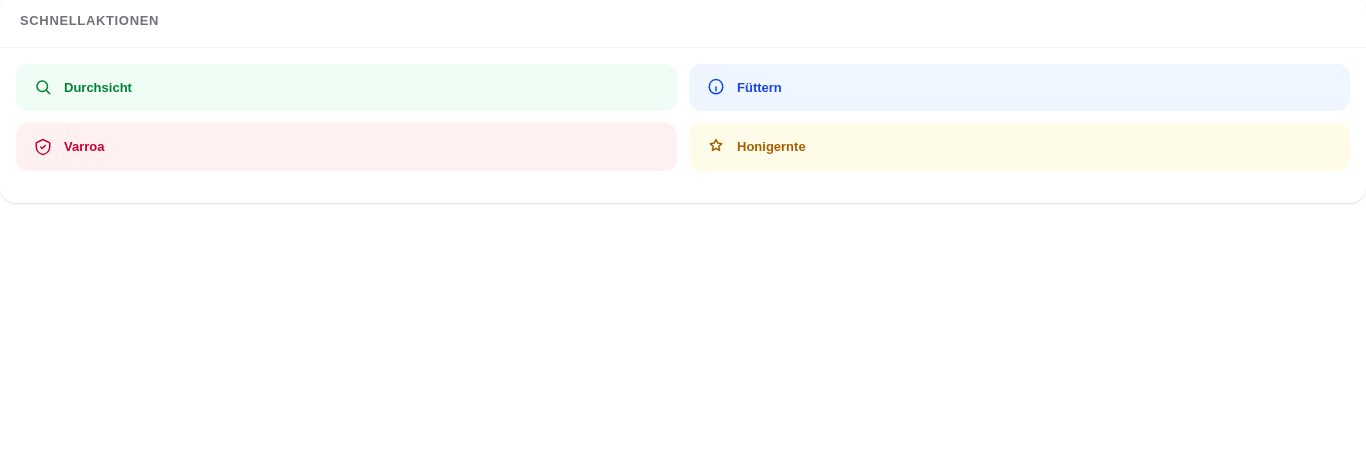
Test: ColonyQuickActions › closes feeding form when Füttern is clicked again
Click the button "Füttern" at {"x": 759, "y": 87}, box x1=689 y1=64 x2=1350 y2=111
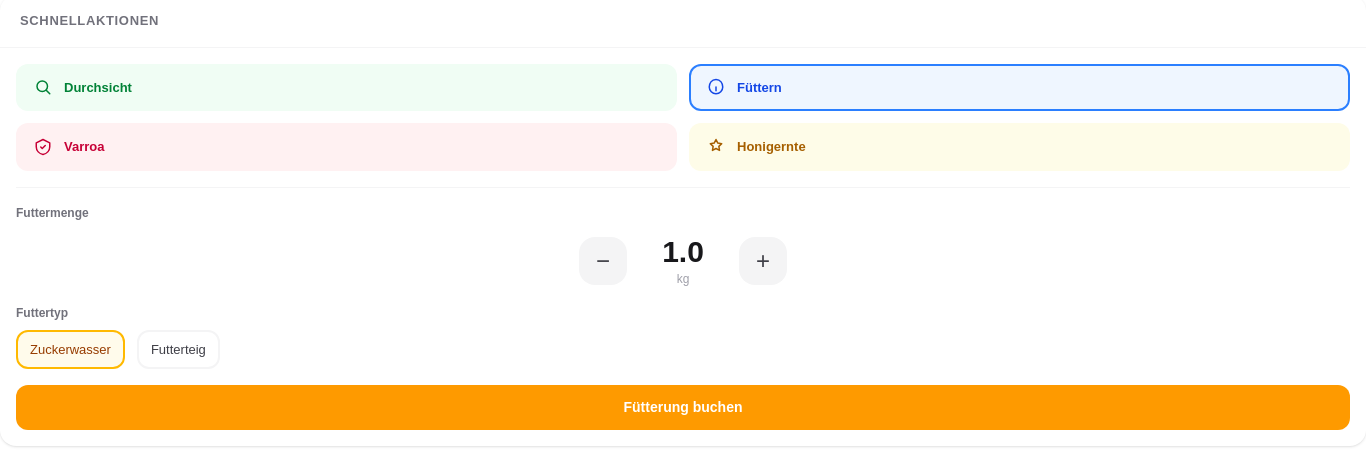
Click the button "Füttern" at {"x": 759, "y": 87}, box x1=689 y1=64 x2=1350 y2=111
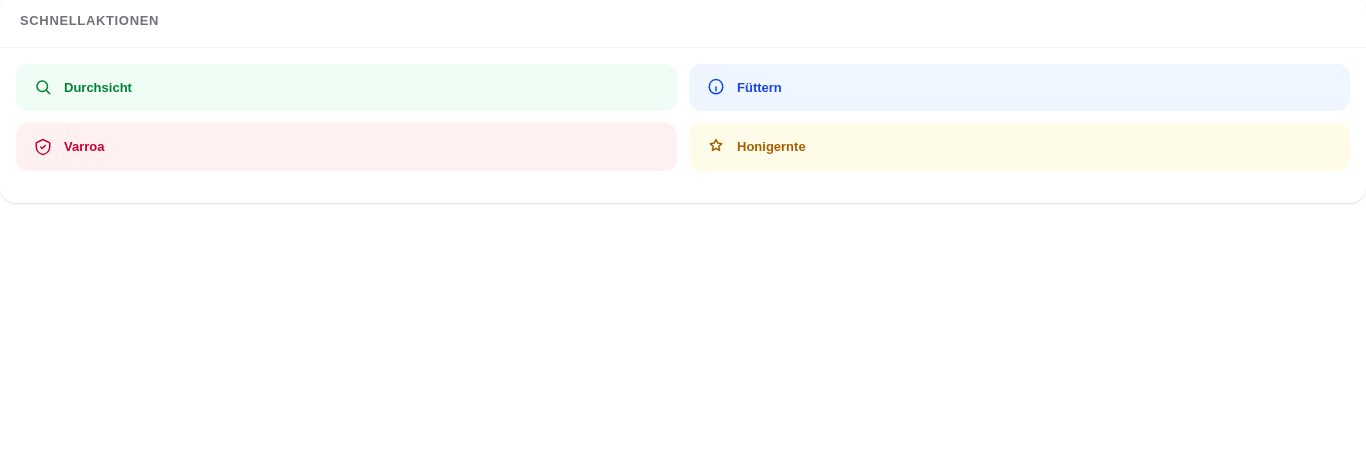
Expected: the button "Fütterung buchen" is gone
